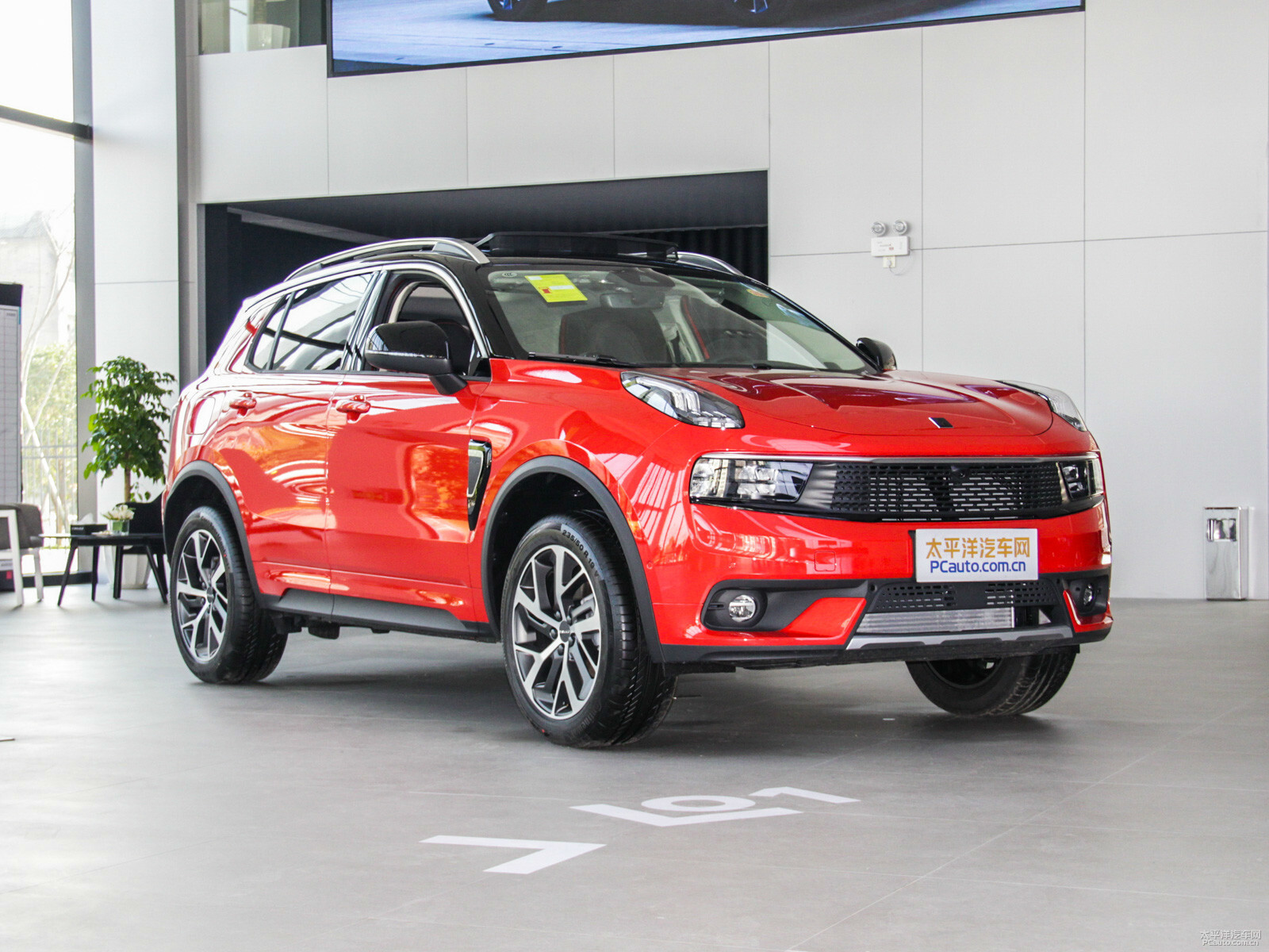LINK&CO: (928, 417, 952, 428)
